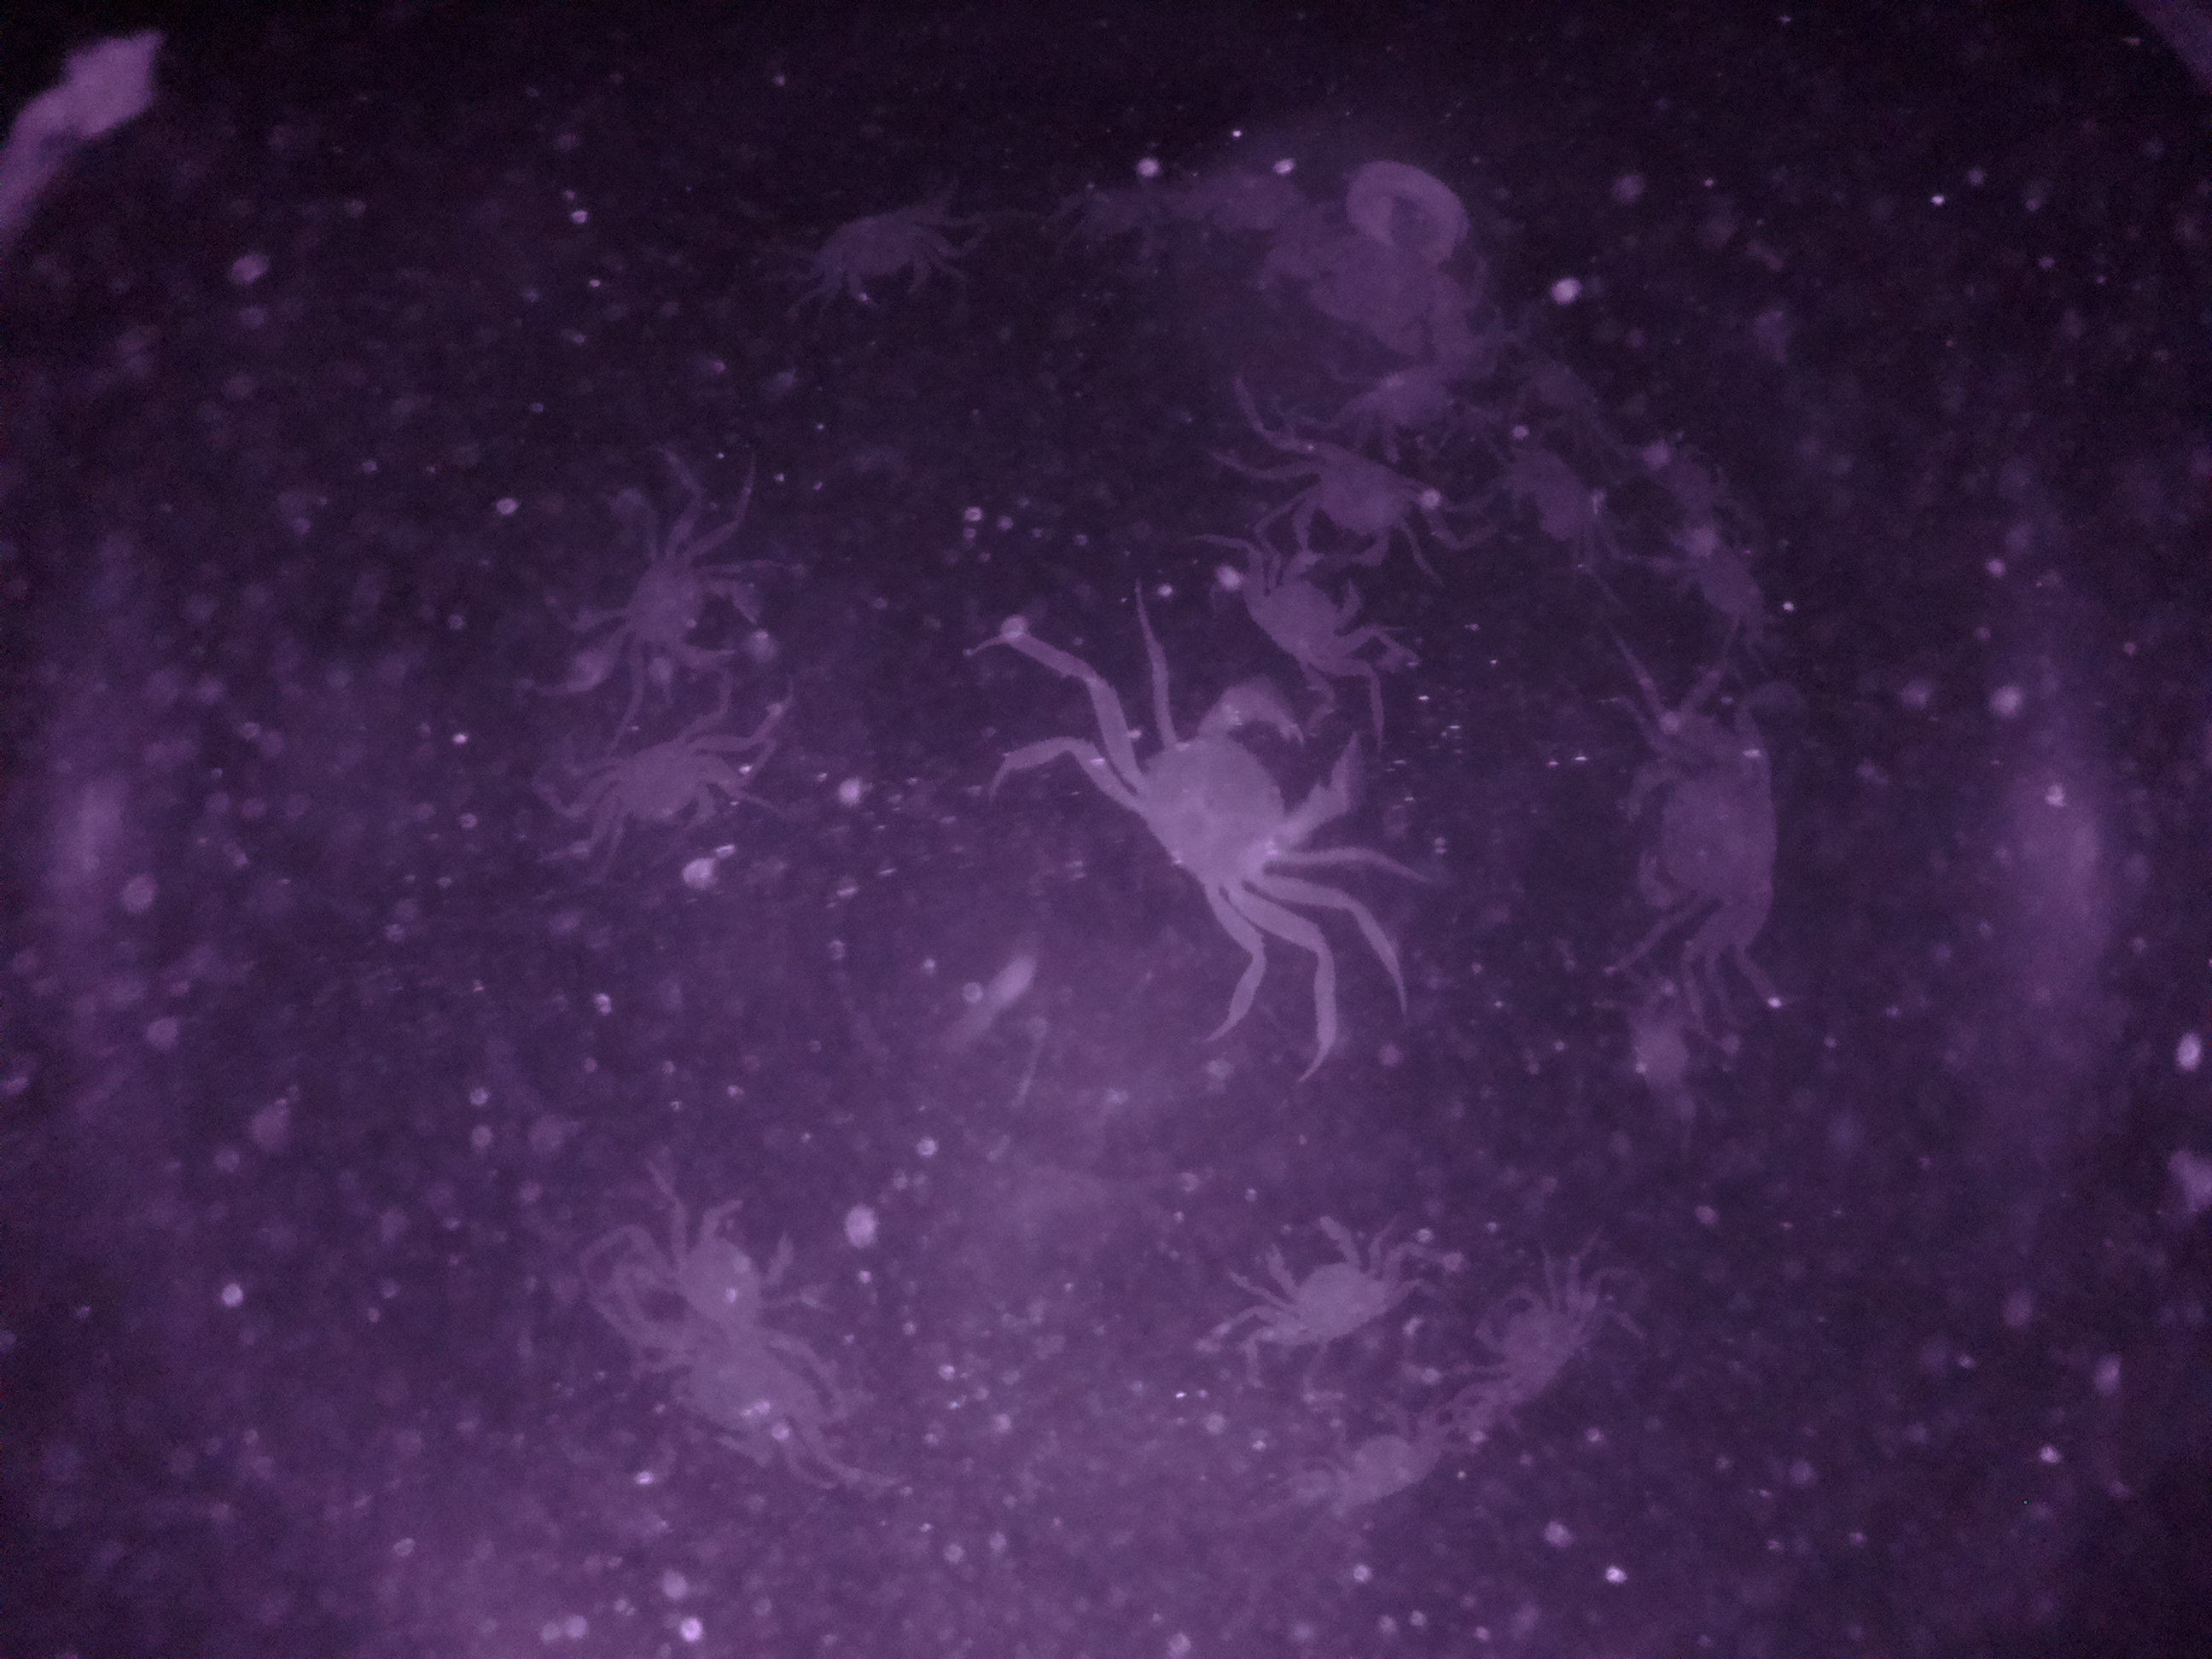Crab: (1094, 680, 1371, 964), (1615, 699, 1804, 978), (1233, 1194, 1400, 1373), (594, 526, 770, 683), (1266, 434, 1447, 584), (580, 718, 763, 863), (1463, 1272, 1606, 1438)
